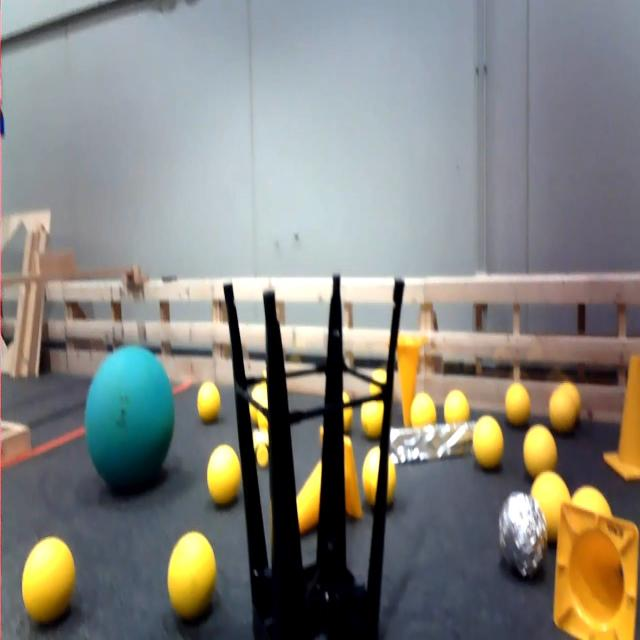fuel: (160, 525, 224, 619), (17, 527, 82, 618), (528, 468, 572, 545), (201, 434, 243, 508), (572, 476, 622, 536), (467, 403, 507, 477), (363, 441, 404, 512), (403, 382, 441, 440), (522, 418, 560, 476), (194, 367, 228, 428), (541, 386, 584, 432), (441, 375, 475, 431), (503, 376, 534, 431), (356, 392, 390, 442), (366, 361, 396, 394)
